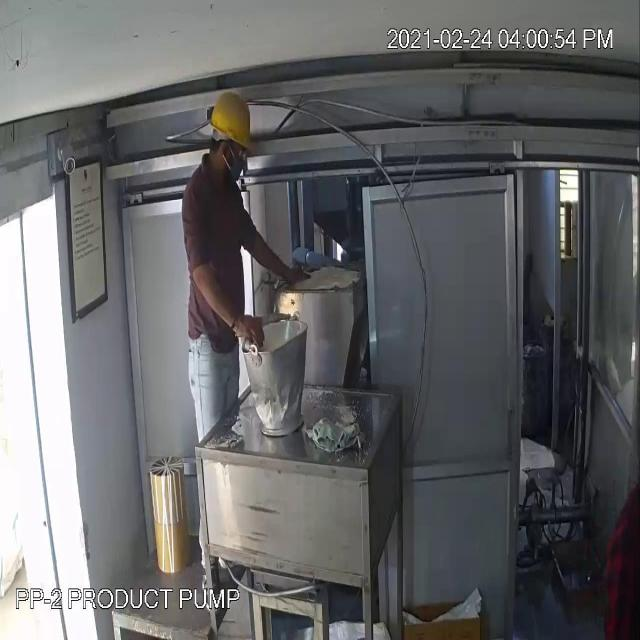helmet: (205, 84, 257, 160)
